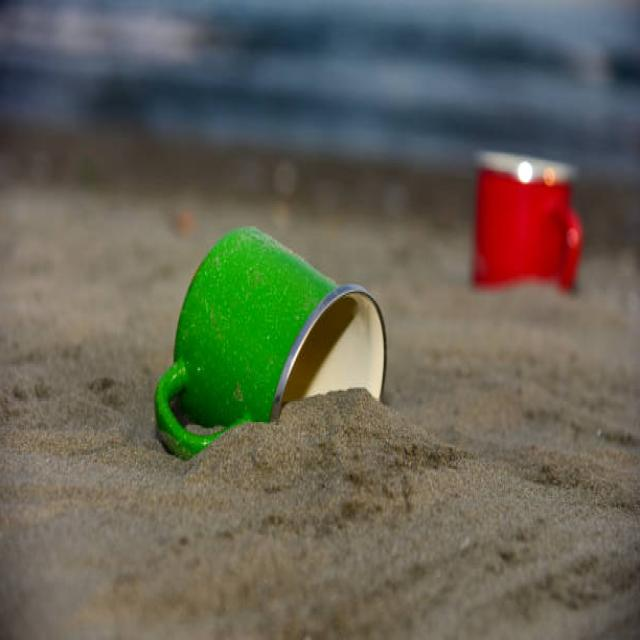Red_cup: (472, 153, 582, 290)
